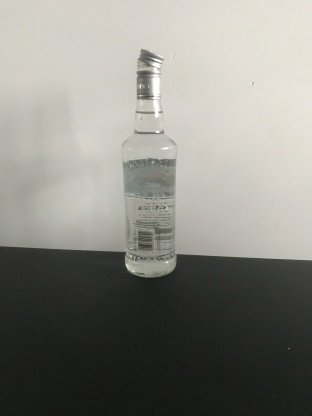nakretka: (134, 46, 165, 100)
